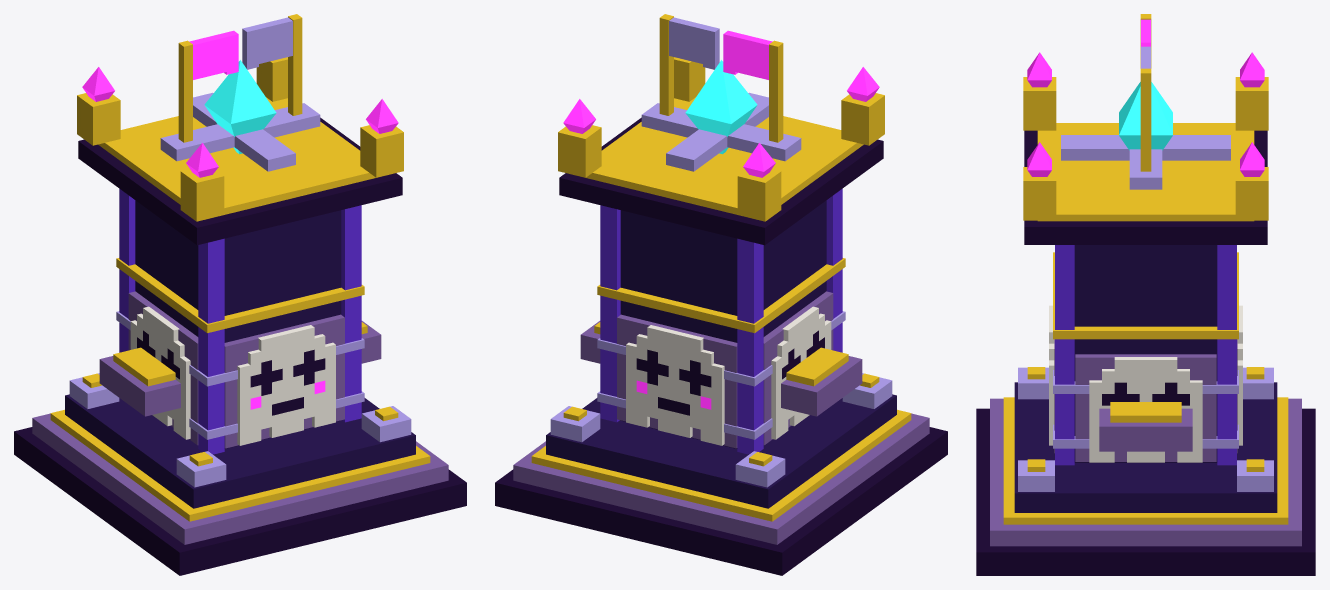
The model's file is trail-tier-3.glb.
3 views of the same model, side by side, from view 1: azimuth 30°, elevation 25°; view 2: azimuth 150°, elevation 25°; view 3: azimuth 270°, elevation 25° (orthographic). The views are drawn at different scales.
Visible parts, largest first — view 1: base-deep, base-gold, base-ink, base-stone, base-cream, base-purple, crown-lavender, base-lavender, crown-teal, crown-gold, base-pink, crown-pink; view 2: base-deep, base-gold, base-ink, base-stone, base-cream, base-purple, crown-lavender, base-lavender, crown-teal, crown-gold, base-pink, crown-pink; view 3: base-gold, base-deep, base-ink, base-stone, base-purple, base-cream, base-lavender, crown-lavender, base-pink, crown-teal, crown-gold.
Part boxes in pixels (x1,y1,x2,y2): base-deep: [65, 200, 415, 508]; base-gold: [50, 57, 430, 521]; base-ink: [14, 117, 466, 575]; base-stone: [32, 291, 448, 544]; base-cream: [130, 306, 335, 445]; base-purple: [119, 189, 361, 454]; crown-lavender: [160, 17, 320, 171]; base-lavender: [69, 311, 411, 487]; crown-teal: [204, 60, 276, 154]; crown-gold: [178, 14, 302, 142]; base-pink: [82, 67, 398, 409]; crown-pink: [189, 30, 238, 79]; base-deep: [546, 200, 896, 508]; base-gold: [531, 57, 911, 521]; base-ink: [495, 117, 947, 575]; base-stone: [513, 291, 929, 544]; base-cream: [626, 306, 831, 445]; base-purple: [600, 189, 842, 454]; crown-lavender: [641, 17, 801, 171]; base-lavender: [550, 311, 892, 487]; crown-teal: [685, 60, 757, 154]; crown-gold: [659, 14, 783, 142]; base-pink: [563, 67, 879, 409]; crown-pink: [723, 30, 772, 79]; base-gold: [1003, 77, 1288, 524]; base-deep: [1014, 245, 1277, 512]; base-ink: [976, 130, 1315, 575]; base-stone: [990, 339, 1301, 546]; base-purple: [1055, 245, 1236, 465]; base-cream: [1049, 305, 1242, 462]; base-lavender: [1018, 367, 1273, 491]; crown-lavender: [1061, 46, 1230, 189]; base-pink: [1027, 52, 1264, 176]; crown-teal: [1119, 82, 1172, 150]; crown-gold: [1140, 14, 1151, 171].
Size of the model in its own units: 3.1 by 4.64 by 3.1.
